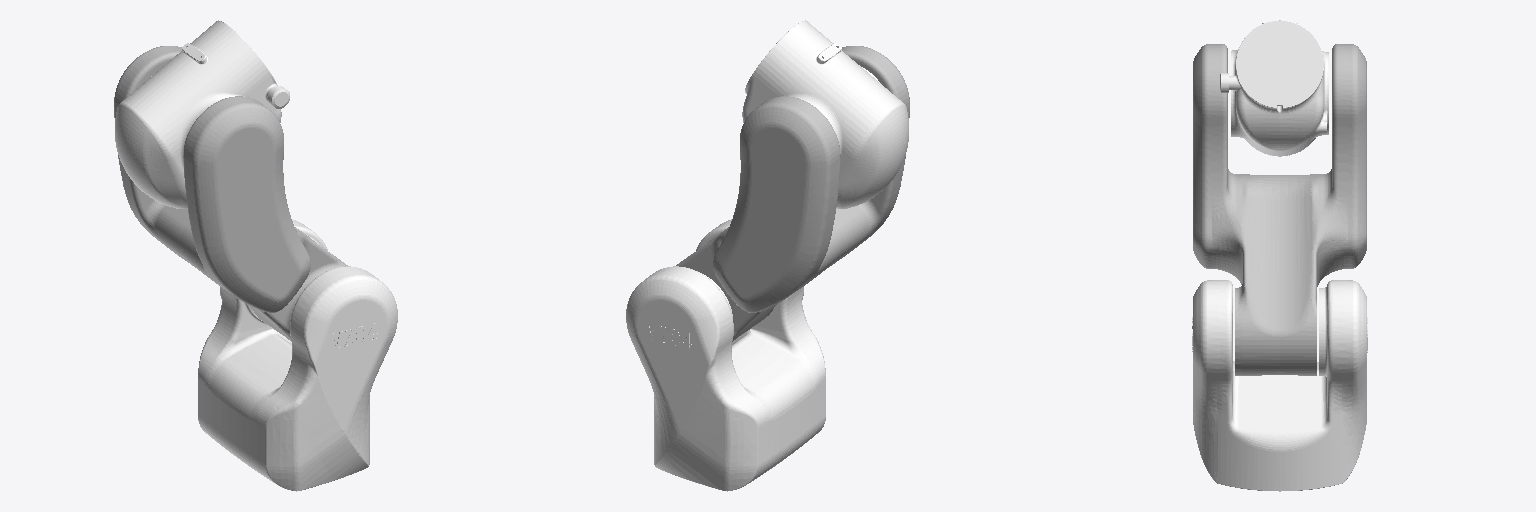
robot.urdf — new_mz04:
<?xml version="1.0" encoding="utf-8"?>
<!-- =================================================================================== -->
<!-- |    This document was autogenerated by xacro from new_mz04_arm.urdf.xacro        | -->
<!-- |    EDITING THIS FILE BY HAND IS NOT RECOMMENDED                                 | -->
<!-- =================================================================================== -->
<robot name="new_mz04">
  <!-- for simulation -->
  <!--  <xacro:include filename="$(find franka_description)/robots/panda.gazebo.xacro"/>-->
  <!--  <xacro:include filename="panda.transmission.xacro"/>-->
  <!-- end for simulation -->
  <!-- for simulation -->
  <!--    <link name="world" />-->
  <!--    <joint name="robot_to_world" type="fixed">-->
  <!--      <parent link="world" />-->
  <!--      <child link="${arm_id}_link0" />-->
  <!--      <origin xyz="0.0 0.0 0.0" rpy="0.0 0.0 0.0" />-->
  <!--    </joint>-->
  <!-- end for simulation -->
  <link name="mz04_link0">
    <visual>
      <geometry>
        <mesh filename="package://mz04_description/meshes/visual/link0.dae"/>
      </geometry>
    </visual>
    <collision>
      <geometry>
        <mesh filename="package://mz04_description/meshes/collision/link0.stl"/>
      </geometry>
    </collision>
  </link>
  <link name="mz04_link1">
    <visual>
      <geometry>
        <mesh filename="package://mz04_description/meshes/visual/link1.dae"/>
      </geometry>
    </visual>
    <collision>
      <geometry>
        <mesh filename="package://mz04_description/meshes/collision/link1.stl"/>
      </geometry>
    </collision>
    <!-- for simulation -->
    <inertial>
      <origin rpy="0 0 0" xyz="-0.0197023514199581 0.000938298692799631 0.0855256712156905"/>
      <mass value="3.29244591173868"/>
      <inertia ixx="0.0222350895636315" ixy="-6.0973596097687E-05" ixz="-0.00175393698078112" iyy="0.0154200096606875" iyz="-0.000258002191557829" izz="0.0150764764826899"/>
    </inertial>
    <!-- end for simulation -->
  </link>
  <joint name="mz04_joint1" type="revolute">
    <safety_controller k_position="100.0" k_velocity="40.0" soft_lower_limit="-2.97" soft_upper_limit="2.97"/>
    <origin rpy="0 0 0" xyz="0 0 0.171"/>
    <parent link="mz04_link0"/>
    <child link="mz04_link1"/>
    <axis xyz="0 0 1"/>
    <limit effort="100" lower="-2.97" upper="2.97" velocity="8.38"/>
    <!-- for simulation -->
    <dynamics damping="1.0"/>
    <!-- end for simulation -->
  </joint>
  <link name="mz04_link2">
    <visual>
      <geometry>
        <mesh filename="package://mz04_description/meshes/visual/link2.dae"/>
      </geometry>
    </visual>
    <collision>
      <geometry>
        <mesh filename="package://mz04_description/meshes/collision/link2.stl"/>
      </geometry>
    </collision>
    <!-- for simulation -->
    <inertial>
      <origin rpy="0 0 0" xyz="-0.0229430342959031 -0.129313116426115 -0.000857512097067098"/>
      <mass value="3.43354405526974"/>
      <inertia ixx="0.0374859154128489" ixy="-0.000577795026903937" ixz="6.67389962661599E-05" iyy="0.0140465634657448" iyz="0.000377486259040234" izz="0.0301480758700004"/>
    </inertial>
    <!-- end for simulation -->
  </link>
  <joint name="mz04_joint2" type="revolute">
    <safety_controller k_position="100.0" k_velocity="40.0" soft_lower_limit="-2.53" soft_upper_limit="1.57"/>
    <origin rpy="-1.57079632679 -0.523598775598 0" xyz="0 0 0.169"/>
    <parent link="mz04_link1"/>
    <child link="mz04_link2"/>
    <axis xyz="0 0 -1"/>
    <limit effort="100" lower="-2.53" upper="1.57" velocity="8.03"/>
    <!-- for simulation -->
    <dynamics damping="1.0"/>
    <!-- end for simulation -->
  </joint>
  <link name="mz04_link3">
    <visual>
      <geometry>
        <mesh filename="package://mz04_description/meshes/visual/link3.dae"/>
      </geometry>
    </visual>
    <collision>
      <geometry>
        <mesh filename="package://mz04_description/meshes/collision/link3.stl"/>
      </geometry>
    </collision>
    <!-- for simulation -->
    <inertial>
      <origin rpy="0 0 0" xyz="0.00557516997606589 -0.000280097155568842 -0.000264708631542377"/>
      <mass value="1.75772574412506"/>
      <inertia ixx="0.0032167713214568" ixy="-0.000191167581086016" ixz="1.23933539489604E-06" iyy="0.00322653422939074" iyz="5.25316745371768E-06" izz="0.00390619750681237"/>
    </inertial>
    <!-- end for simulation -->
  </link>
  <joint name="mz04_joint3" type="revolute">
    <safety_controller k_position="100.0" k_velocity="40.0" soft_lower_limit="-2.18" soft_upper_limit="4.89"/>
    <origin rpy="0 0 -1.57079632679" xyz="0 -0.26 0"/>
    <parent link="mz04_link2"/>
    <child link="mz04_link3"/>
    <axis xyz="0 0 -1"/>
    <limit effort="100" lower="-2.18" upper="4.89" velocity="9.08"/>
    <!-- for simulation -->
    <dynamics damping="1.0"/>
    <!-- end for simulation -->
  </joint>
  <link name="mz04_link4">
    <visual>
      <geometry>
        <mesh filename="package://mz04_description/meshes/visual/link4.dae"/>
      </geometry>
    </visual>
    <collision>
      <geometry>
        <mesh filename="package://mz04_description/meshes/collision/link4.stl"/>
      </geometry>
    </collision>
    <!-- for simulation -->
    <inertial>
      <origin rpy="0 0 0" xyz="0.00309024473150554 -0.000145366515908234 -0.102946189818116"/>
      <mass value="1.70562401190118"/>
      <inertia ixx="0.00721639807702088" ixy="-3.42236031590701E-07" ixz="5.92374124737924E-05" iyy="0.00686286874449402" iyz="5.84968158425155E-06" izz="0.00220615434229459"/>
    </inertial>
    <!-- end for simulation -->
  </link>
  <joint name="mz04_joint4" type="revolute">
    <safety_controller k_position="100.0" k_velocity="40.0" soft_lower_limit="-3.32" soft_upper_limit="3.32"/>
    <origin rpy="-1.57079632679 0 0" xyz="0.0249999999999999 0.28 0"/>
    <parent link="mz04_link3"/>
    <child link="mz04_link4"/>
    <axis xyz="0 0 1"/>
    <limit effort="100" lower="-3.32" upper="3.32" velocity="9.77"/>
    <!-- for simulation -->
    <dynamics damping="1.0"/>
    <!-- end for simulation -->
  </joint>
  <link name="mz04_link5">
    <visual>
      <geometry>
        <mesh filename="package://mz04_description/meshes/visual/link5.dae"/>
      </geometry>
    </visual>
    <collision>
      <geometry>
        <mesh filename="package://mz04_description/meshes/collision/link5.stl"/>
      </geometry>
    </collision>
    <!-- for simulation -->
    <inertial>
      <origin rpy="0 0 0" xyz="-5.86547276966165E-05 0.0199090373472192 -0.00293631213635448"/>
      <mass value="0.336399836903676"/>
      <inertia ixx="0.000446624368283086" ixy="2.47061371480887E-07" ixz="6.15821325897774E-07" iyy="0.000330568174441235" iyz="-1.87705108529991E-05" izz="0.000351036334434016"/>
    </inertial>
    <!-- end for simulation -->
  </link>
  <joint name="mz04_joint5" type="revolute">
    <safety_controller k_position="100.0" k_velocity="40.0" soft_lower_limit="-2.09" soft_upper_limit="2.09"/>
    <origin rpy="1.57079632679 -1.57079632679 0" xyz="0 0 0"/>
    <parent link="mz04_link4"/>
    <child link="mz04_link5"/>
    <axis xyz="0 0 -1"/>
    <limit effort="100" lower="-2.09" upper="2.09" velocity="9.77"/>
    <!-- for simulation -->
    <dynamics damping="1.0"/>
    <!-- end for simulation -->
  </joint>
  <link name="mz04_link6">
    <visual>
      <geometry>
        <mesh filename="package://mz04_description/meshes/visual/link6.dae"/>
      </geometry>
    </visual>
    <collision>
      <geometry>
        <mesh filename="package://mz04_description/meshes/collision/link6.stl"/>
      </geometry>
    </collision>
    <!-- for simulation -->
    <inertial>
      <origin rpy="0 0 0" xyz="0.00020870301755449 5.54207254168023E-05 0.0685507759319275"/>
      <mass value="0.0340082287388899"/>
      <inertia ixx="8.72489057883343E-06" ixy="5.14603740499548E-08" ixz="-7.72265367887762E-09" iyy="8.58258061822553E-06" iyz="-2.01661845696461E-09" izz="1.61785714739617E-05"/>
    </inertial>
    <!-- end for simulation -->
  </link>
  <joint name="mz04_joint6" type="revolute">
    <safety_controller k_position="100.0" k_velocity="40.0" soft_lower_limit="-3.14" soft_upper_limit="3.14"/>
    <origin rpy="-1.57079632679 0 0" xyz="0 0.072 0"/>
    <parent link="mz04_link5"/>
    <child link="mz04_link6"/>
    <axis xyz="0 0 1"/>
    <limit effort="10" lower="-3.14" upper="3.14" velocity="15.71"/>
    <!-- for simulation -->
    <dynamics damping="1.0"/>
    <!-- end for simulation -->
  </joint>
  <!-- for simulation -->
  <!--  <xacro:arg name="robot_name" default="mz04"/>-->
  <!--  <xacro:panda_gazebo robot_name="$(arg robot_name)" />-->
  <!--  <xacro:panda_transmission robot_name="$(arg robot_name)" load_hand="false" />-->
  <!-- end for simulation -->
</robot>

--- What the picture shows (computed from the rendered views, not written in the file) ---
3 views of the same robot in one strip: view 1: azimuth 30°, elevation 25°; view 2: azimuth 150°, elevation 25°; view 3: azimuth 270°, elevation 25° (orthographic).
Robot: new_mz04 — 7 links, 6 joints (6 revolute); root link mz04_link0; default pose: all joints at 0.
Links seen in each view (by area): view 1: mz04_link1, mz04_link2, mz04_link3; view 2: mz04_link1, mz04_link2, mz04_link3; view 3: mz04_link2, mz04_link1, mz04_link3.
Link boxes in pixels (x1,y1,x2,y2): mz04_link1: (198,219,397,491); mz04_link2: (114,46,347,341); mz04_link3: (115,20,289,208); mz04_link1: (626,219,825,491); mz04_link2: (676,46,909,341); mz04_link3: (742,20,908,208); mz04_link2: (1193,44,1366,375); mz04_link1: (1192,280,1367,491); mz04_link3: (1220,20,1328,156).
Size in the robot's own frame: 0.276 by 0.191 by 0.4972 metres.
Meshes: 7 distinct files referenced, 3 mesh visuals loaded (3 Collada DAE); not drawn: 4 (reference not matched to a file when rendering).